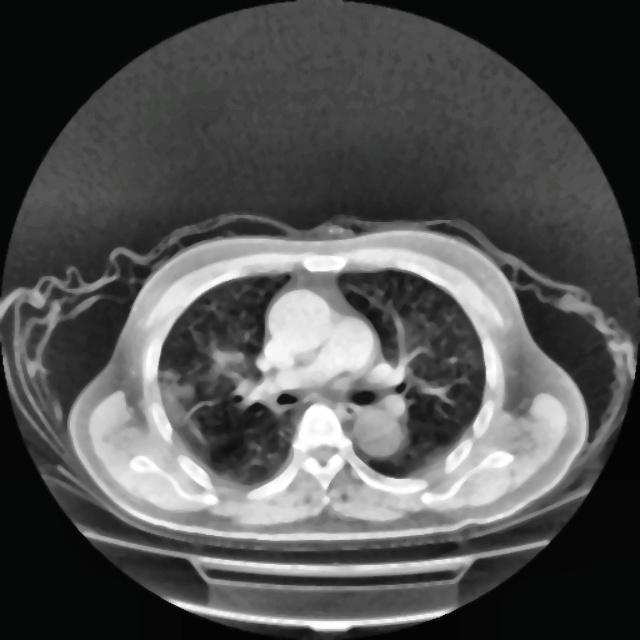covid: (66, 220, 591, 543)
